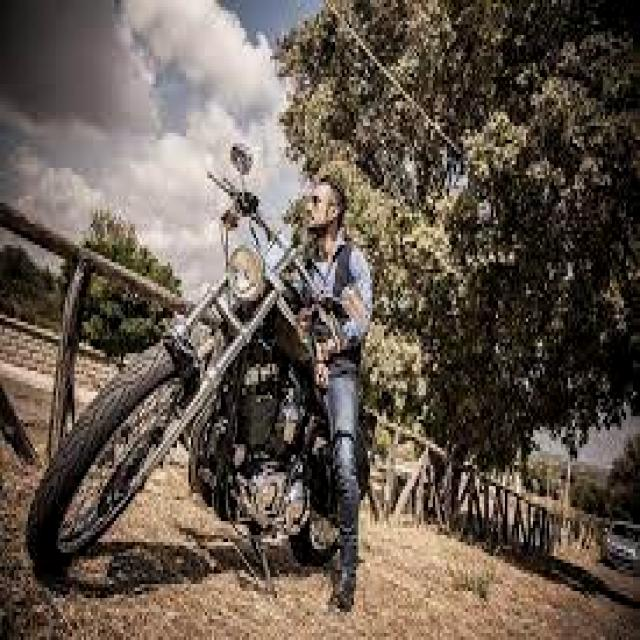MOTORCYCLE: (24, 292, 368, 607)
